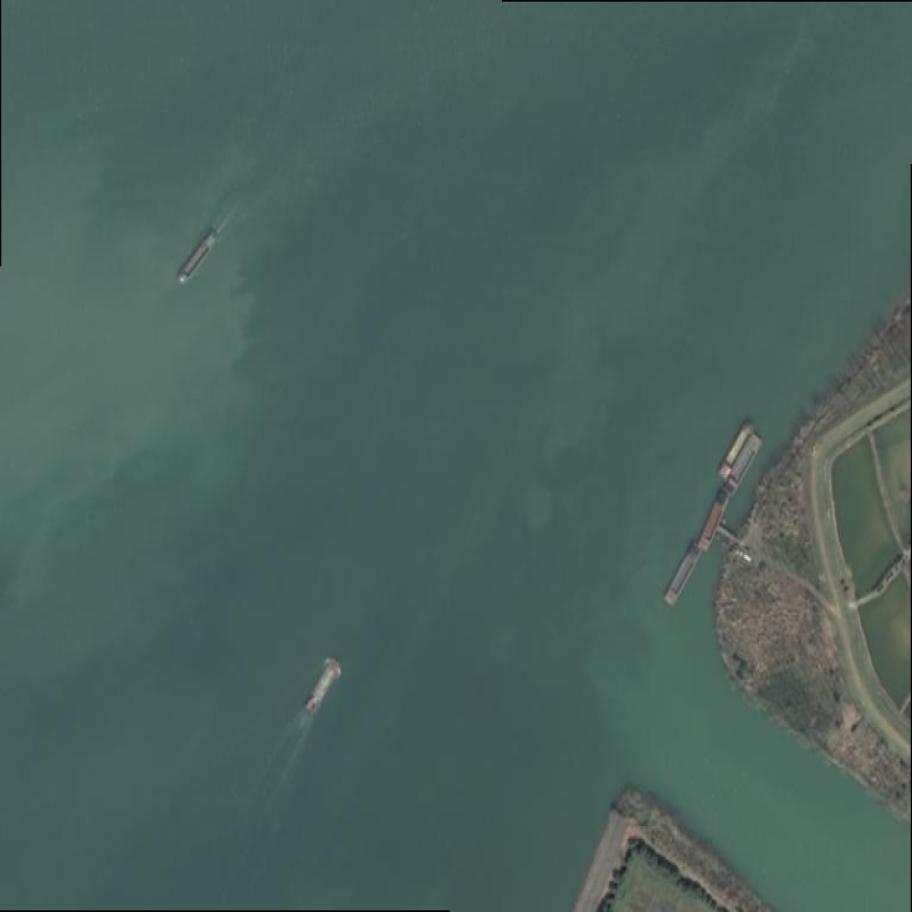ship: (723, 433, 767, 495), (663, 544, 702, 609), (716, 422, 756, 479), (176, 230, 219, 282), (697, 488, 730, 553), (303, 659, 341, 715)
